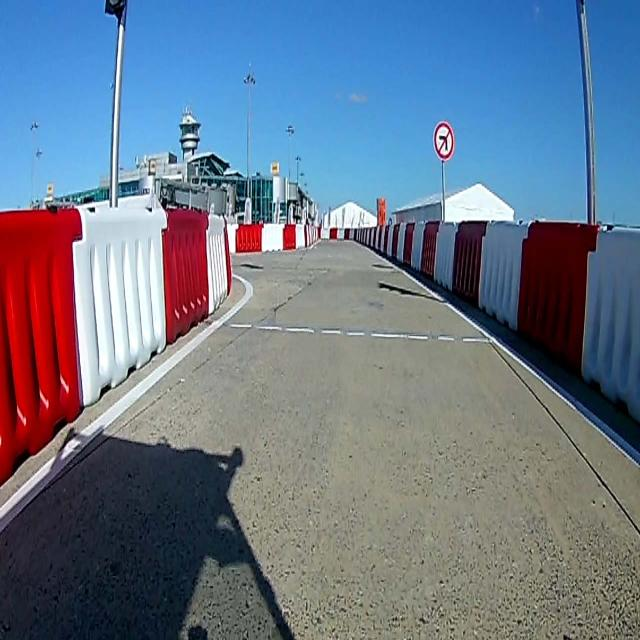soladonulmez: (432, 119, 454, 161)
